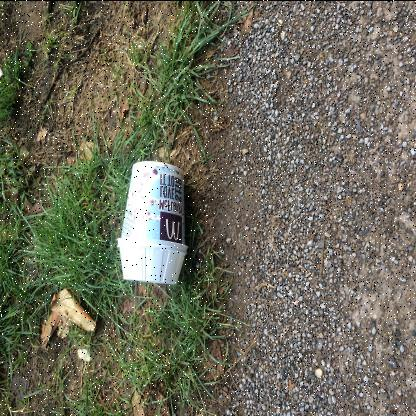cardboard: (116, 160, 189, 286)
